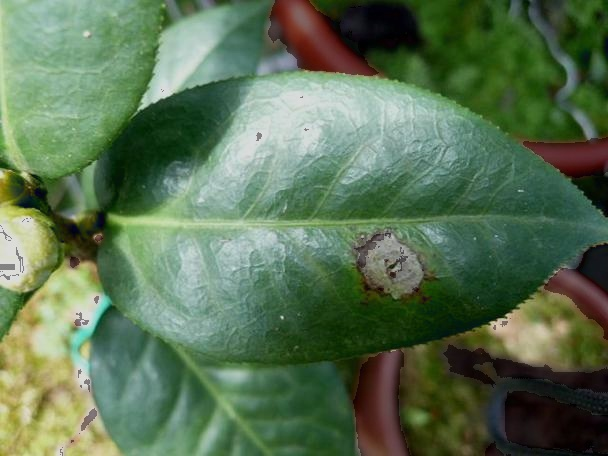Anthracnose: (323, 224, 412, 298)
